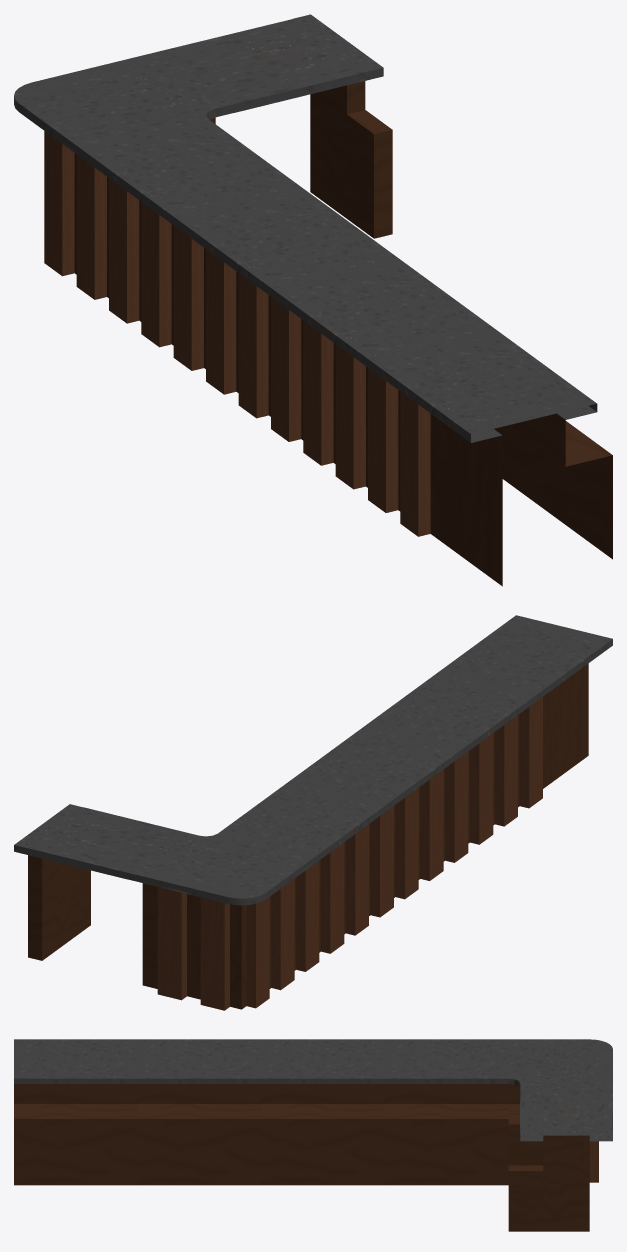
The model's file is Recepción.fbx.
The picture shows the model from 3 angles, top to bottom: view 1: azimuth 30°, elevation 25°; view 2: azimuth 150°, elevation 25°; view 3: azimuth 270°, elevation 25°; orthographic projection. The views are drawn at different scales.
Visible parts, largest first — view 1: Mostrador.005; view 2: Mostrador.005; view 3: Mostrador.005.
Part boxes in pixels (left/top/right/bottom): Mostrador.005: left=14, top=14, right=612, bottom=586; Mostrador.005: left=14, top=615, right=612, bottom=1010; Mostrador.005: left=14, top=1039, right=612, bottom=1231.
Bounding box in the file's own units: 369 × 182 × 969.
